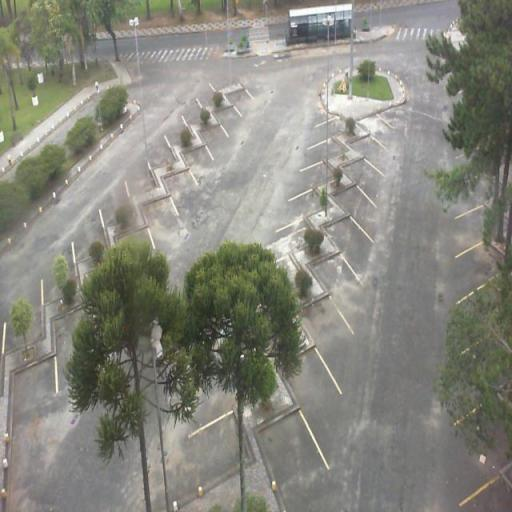Slot-empty: (247, 406, 338, 494), (270, 348, 340, 414), (11, 362, 62, 442), (300, 291, 348, 350), (315, 243, 359, 303), (325, 212, 371, 266), (336, 182, 382, 227), (344, 138, 400, 170), (341, 163, 390, 199), (182, 141, 220, 183), (355, 108, 397, 146), (196, 119, 235, 159), (143, 196, 178, 238), (161, 167, 198, 204), (220, 86, 260, 118), (212, 106, 248, 138)
